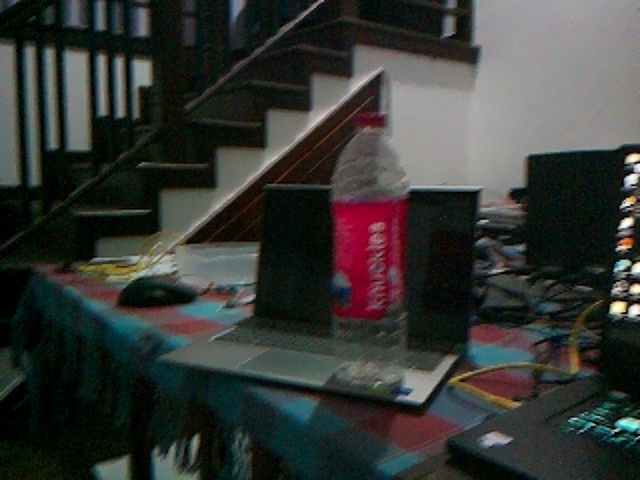bottle: (327, 113, 410, 391)
